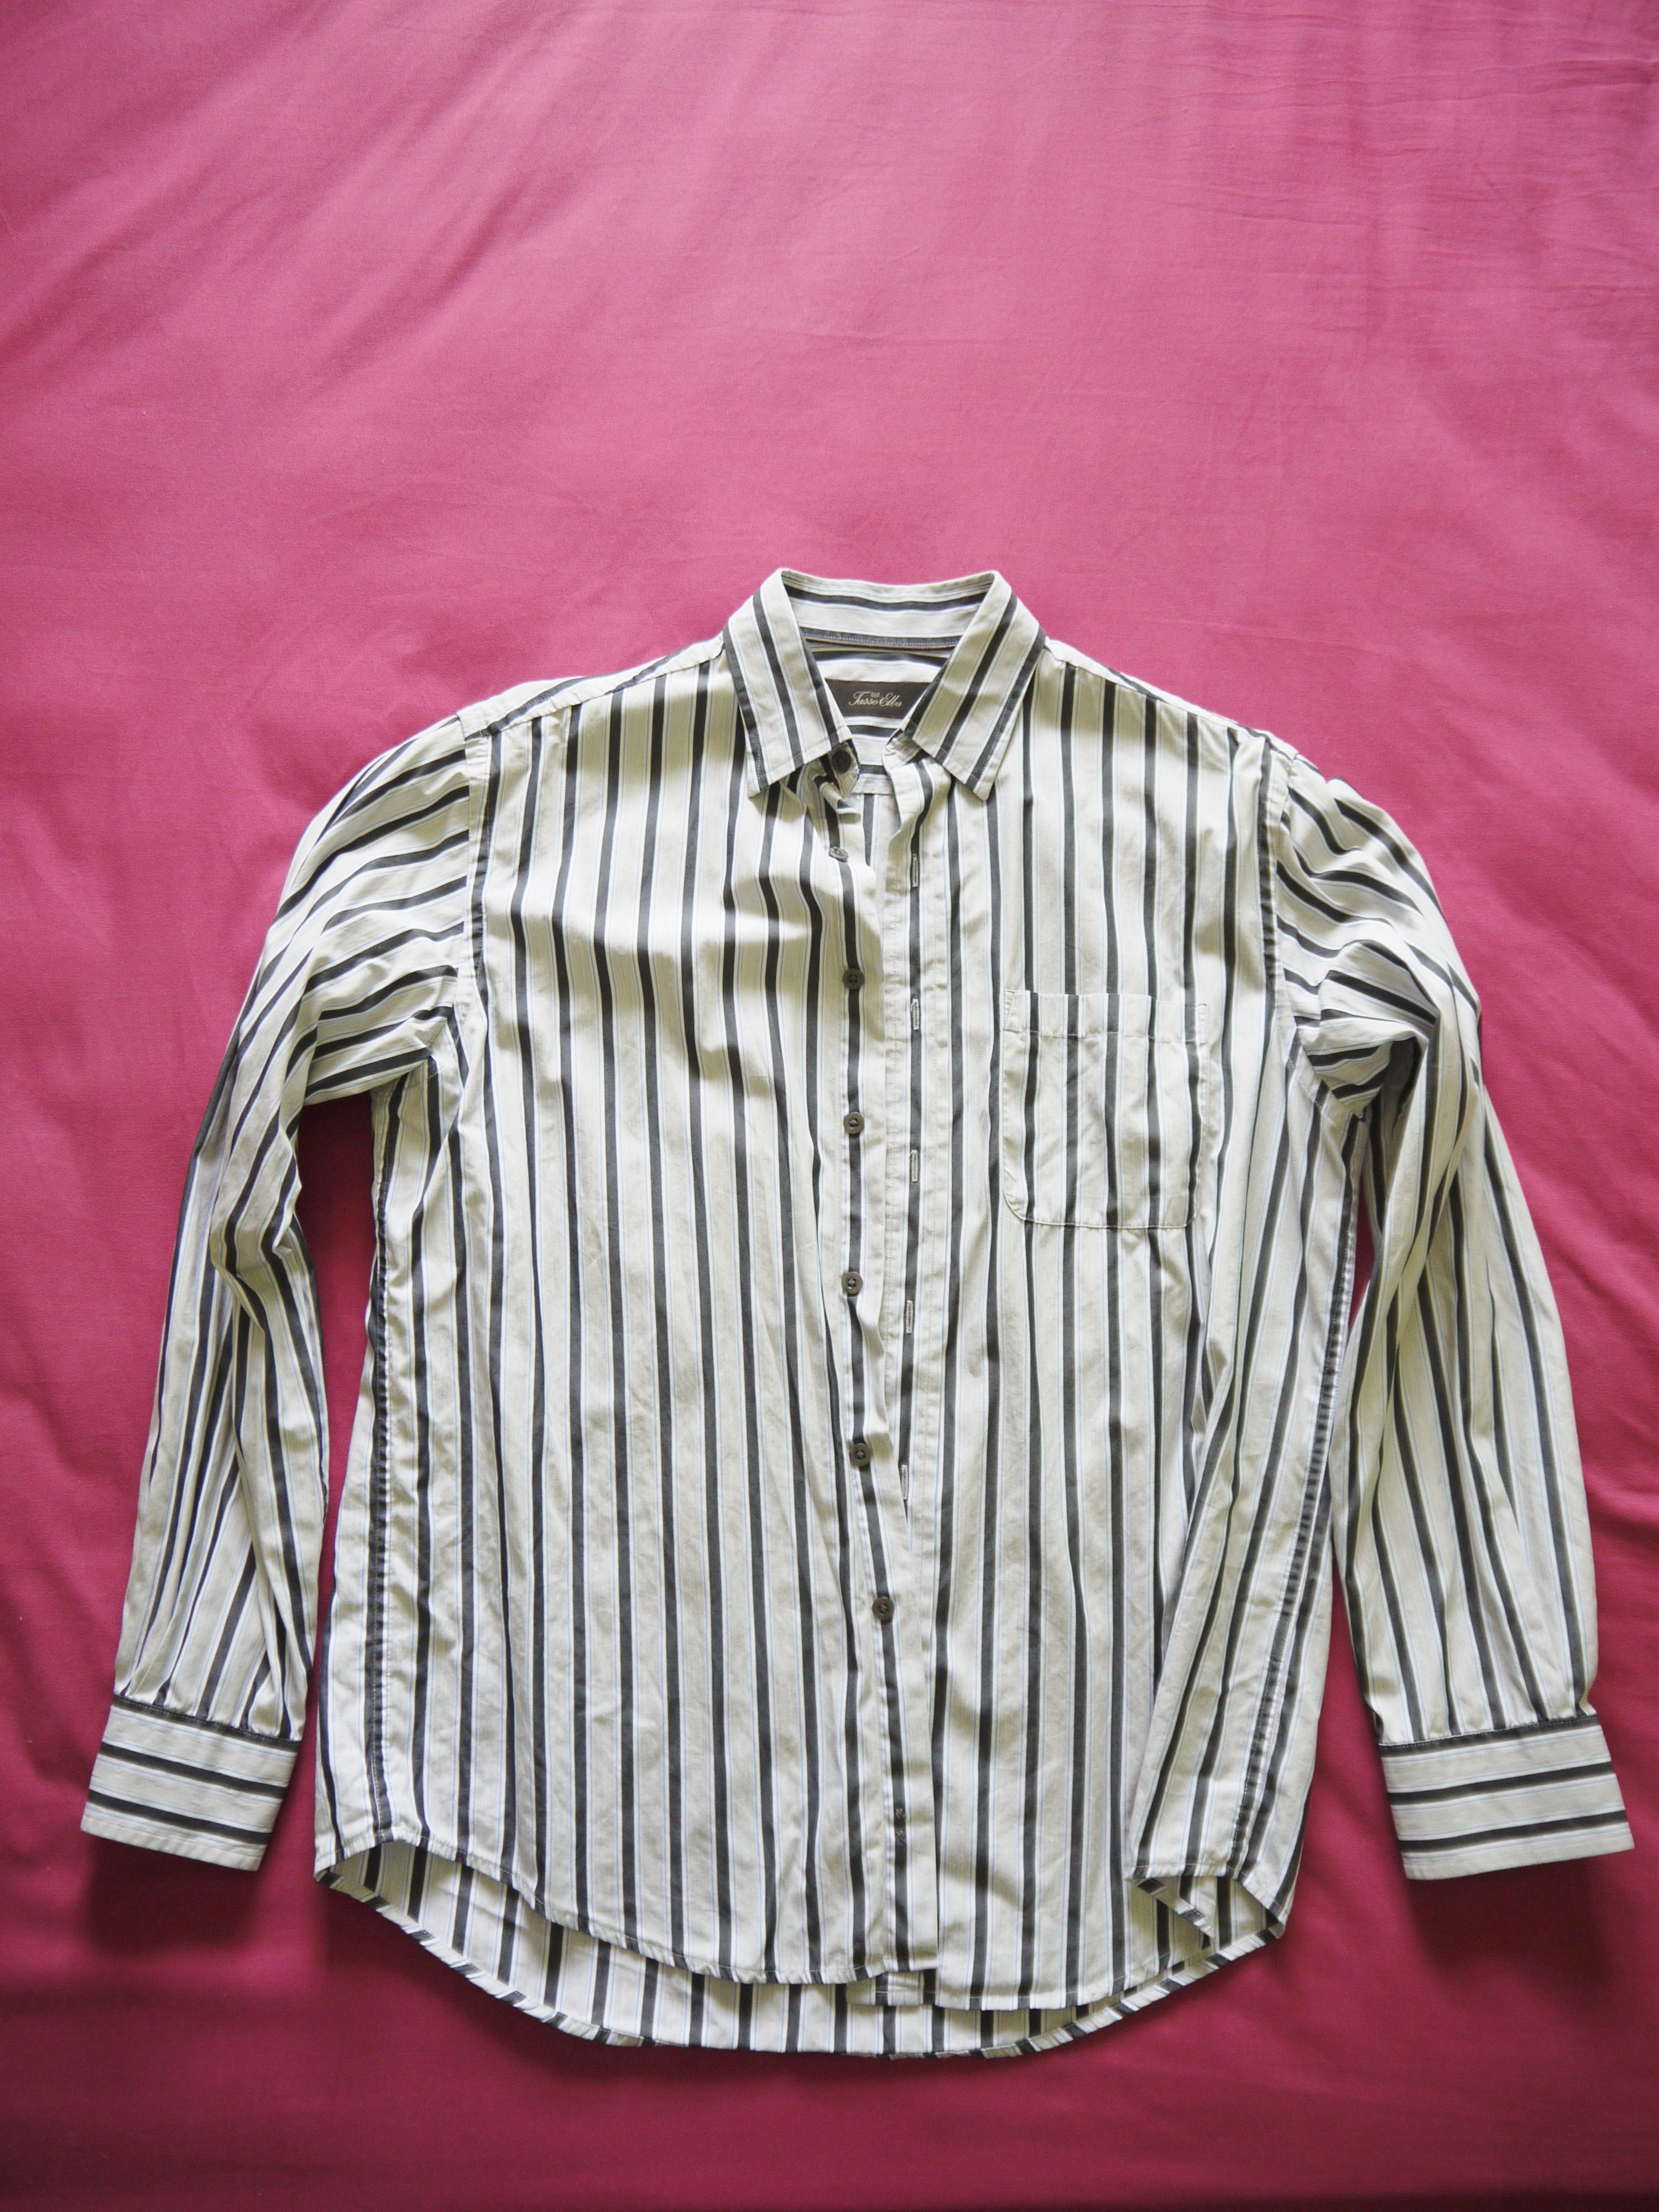clothes: (47, 570, 1633, 2048)
